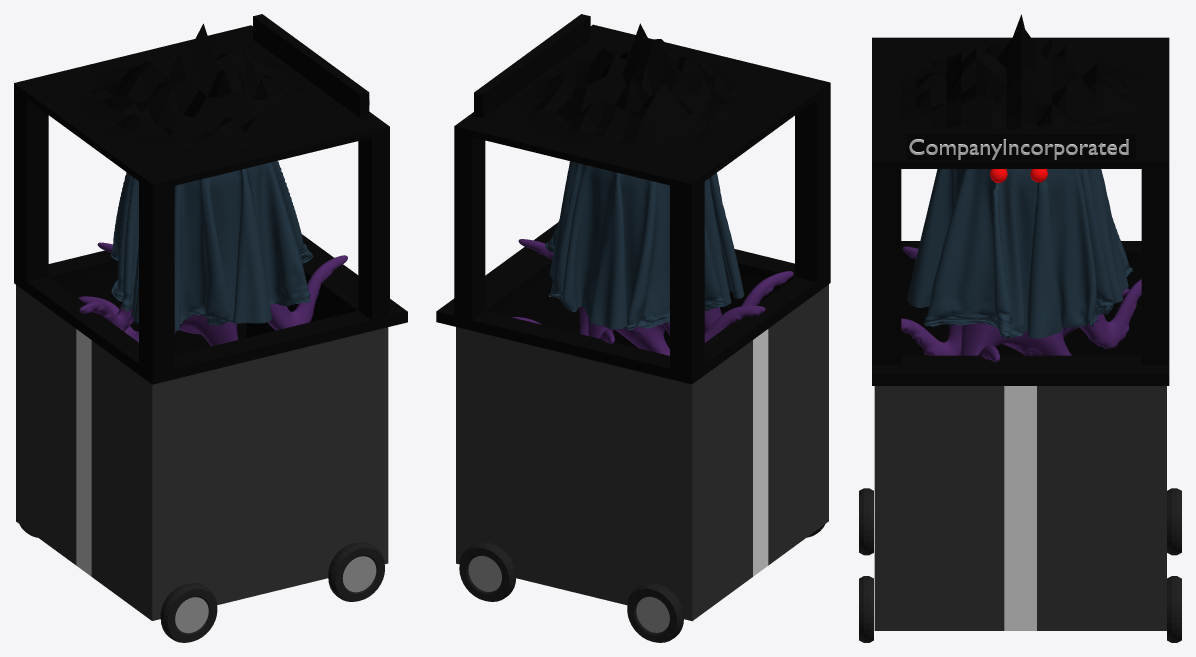
Rendered from shopkeep.fbx.
3 renders of one model, left to right at view 1: azimuth 30°, elevation 25°; view 2: azimuth 150°, elevation 25°; view 3: azimuth 270°, elevation 25°, orthographic. The views are drawn at different scales.
Parts seen in each view (by area): view 1: Cylinder, worker; view 2: Cylinder, worker; view 3: Cylinder, worker.
Boxes of the visible parts, x1,y1,x2,y2 form: Cylinder: (14, 14, 407, 642); worker: (78, 161, 347, 346); Cylinder: (436, 14, 830, 642); worker: (511, 161, 793, 355); Cylinder: (859, 14, 1181, 642); worker: (901, 169, 1141, 362).
Size of the model in its own units: 774 by 1552 by 778.
